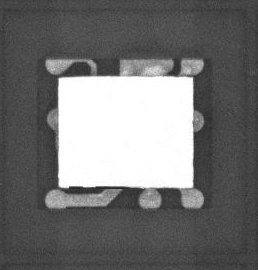DIE_BROKEN: (67, 184, 135, 189)
